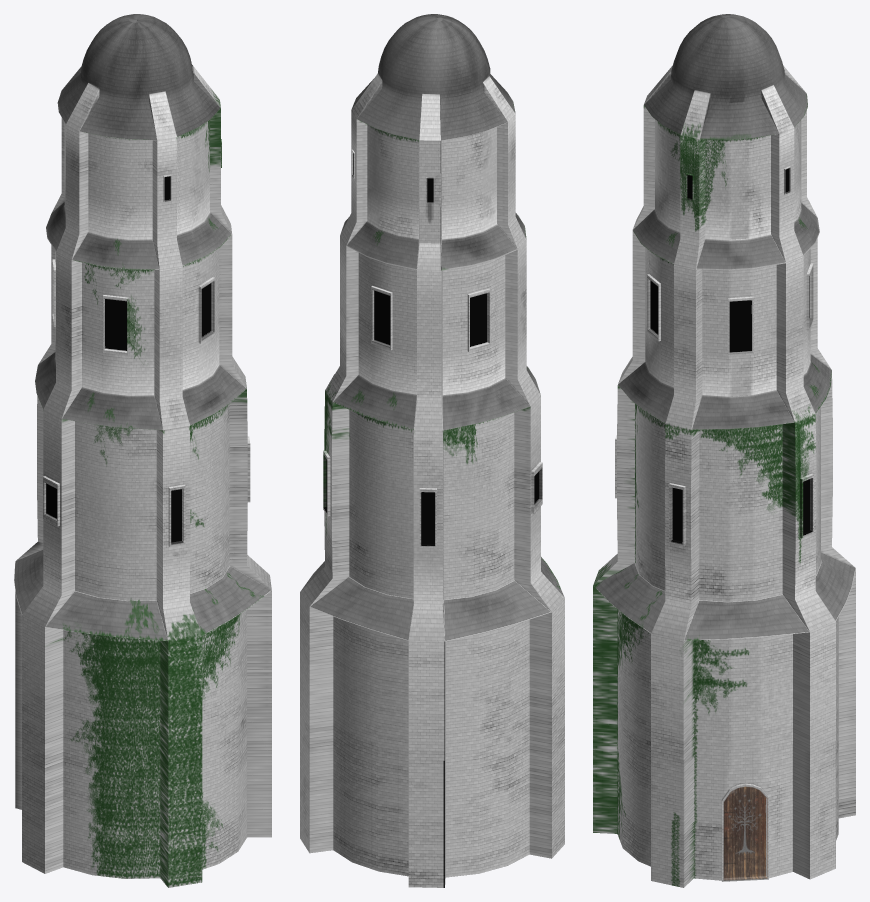
The model's file is mt-tower1.obj.
3 views of the same model, side by side, from view 1: azimuth 30°, elevation 25°; view 2: azimuth 150°, elevation 25°; view 3: azimuth 270°, elevation 25° (orthographic).
Parts seen in each view (by area): view 1: polySurface1; view 2: polySurface1; view 3: polySurface1.
Part boxes in pixels (bbox=[...]): polySurface1: bbox=[14, 14, 271, 887]; polySurface1: bbox=[300, 14, 564, 887]; polySurface1: bbox=[593, 14, 855, 887].
Size of the model in its own units: 15.15 by 51.88 by 15.15.
